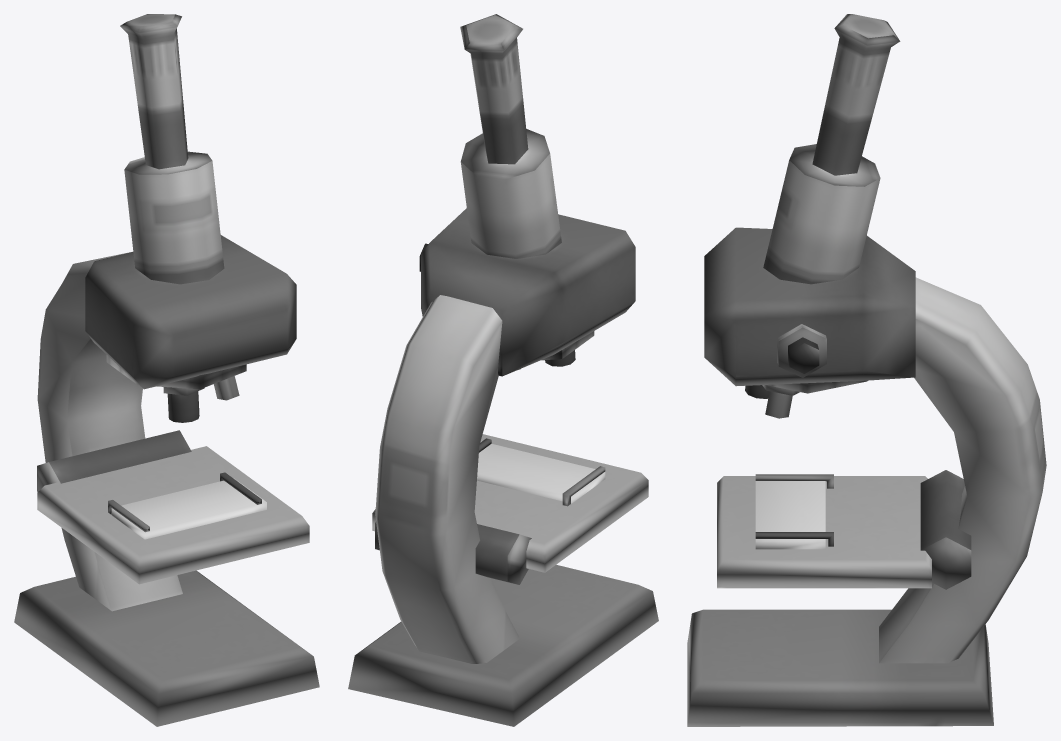
Rendered from LabDesk_Object_Microscope.Fbx.
3 renders of one model, left to right at view 1: azimuth 30°, elevation 25°; view 2: azimuth 150°, elevation 25°; view 3: azimuth 270°, elevation 25°, orthographic. The views are drawn at different scales.
Parts seen in each view (by area): view 1: Microscope; view 2: Microscope; view 3: Microscope.
Boxes of the visible parts, box(x1,y1,x2,y2) form: Microscope: box(14, 14, 319, 726); Microscope: box(348, 14, 658, 726); Microscope: box(687, 14, 1046, 726).
Size of the model in its own units: 24.77 by 82.7 by 40.58.
1 material, 1 textured.
